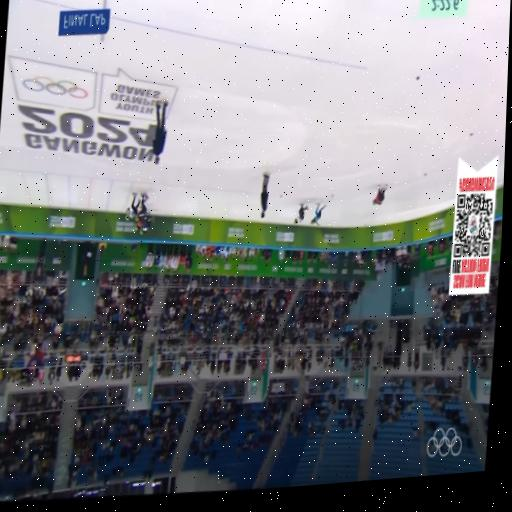Skater: (310, 202, 326, 227), (293, 202, 309, 225), (372, 184, 387, 204), (140, 210, 150, 233)
